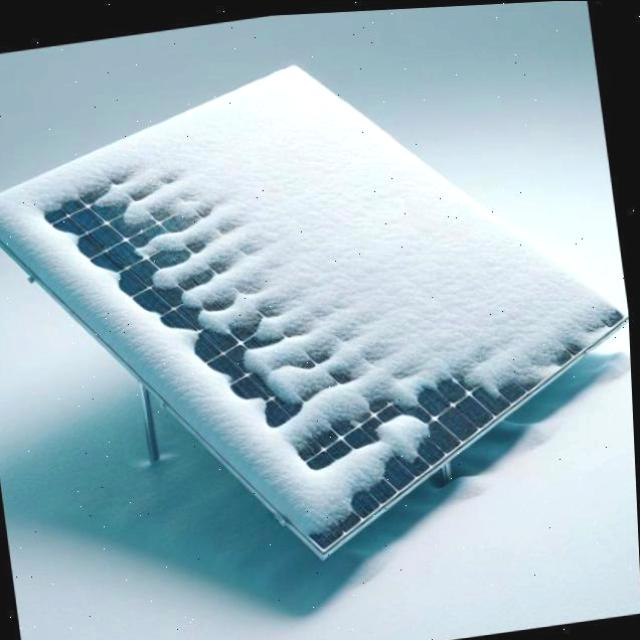Anomaly Solar Panel: (0, 16, 631, 612)
Snow: (0, 16, 625, 603)
